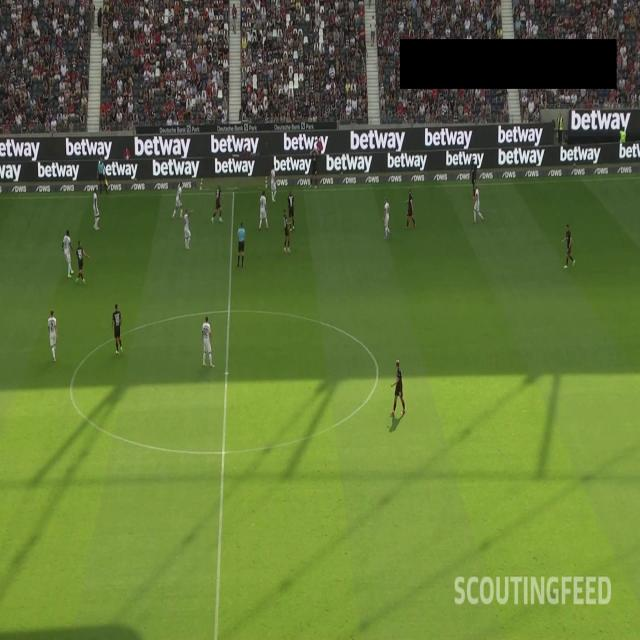ball: (312, 140, 318, 153)
player: (392, 356, 405, 418), (202, 316, 214, 369), (62, 230, 74, 279), (91, 186, 102, 234), (563, 224, 575, 268), (112, 304, 122, 352), (472, 185, 484, 225), (75, 240, 86, 283), (48, 310, 57, 362), (213, 182, 224, 222), (406, 190, 416, 230), (182, 211, 192, 249), (257, 191, 267, 228), (283, 209, 292, 249), (287, 193, 296, 229), (270, 163, 278, 200), (175, 181, 183, 217), (470, 158, 477, 197), (384, 196, 390, 235)
